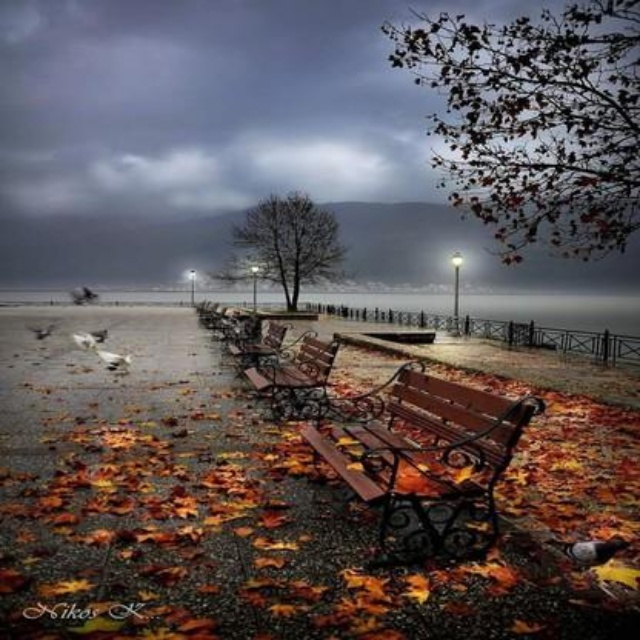obstacle: (323, 366, 551, 549), (226, 302, 291, 372)
